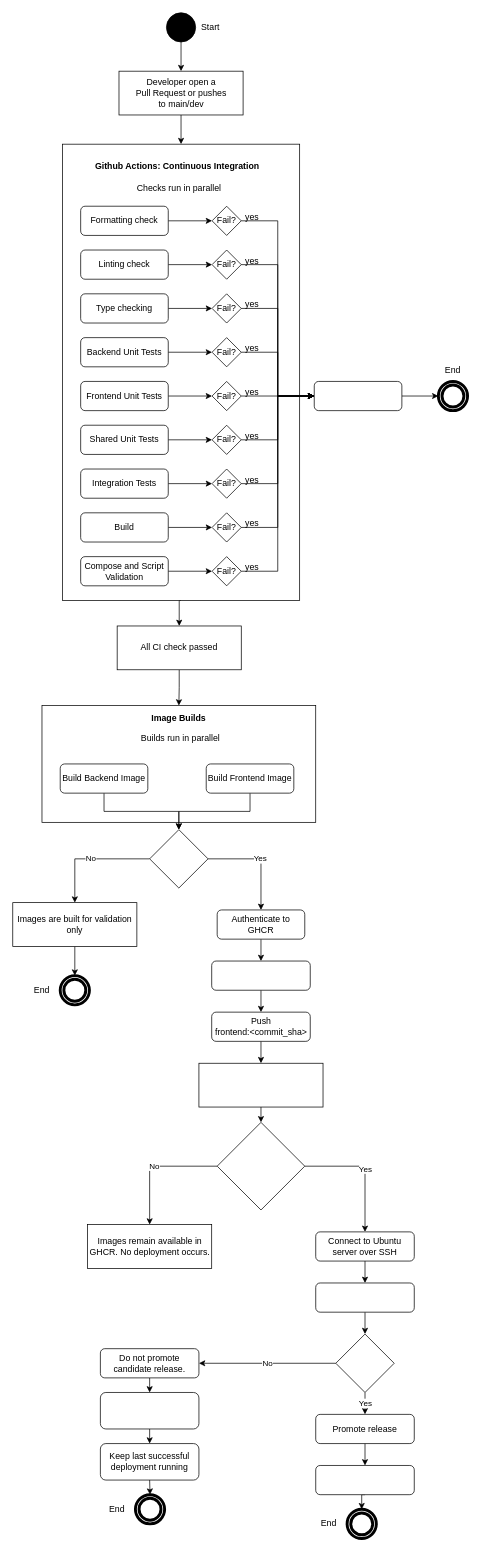
This 488x1553 diagram has some shape labels left out. Here are the shapes that lost their labels. From the top down, the centre of each, then its label:
At pixel 358 396: "Stop pipeline: Do not publish or deploy".
At pixel 178 858: "Is this a push to main?".
At pixel 260 975: "Push backend:<commit_sha>".
At pixel 260 1085: "SHA-tagged releases are now in Github Container Registry".
At pixel 260 1166: "Is Production Deployment variable true?".
At pixel 364 1297: "Run deploy-production.sh".
At pixel 364 1362: "Is deployement success?".
At pixel 149 1410: "Warn that Database might have been migrated".
At pixel 364 1480: "Remove SSH key".
